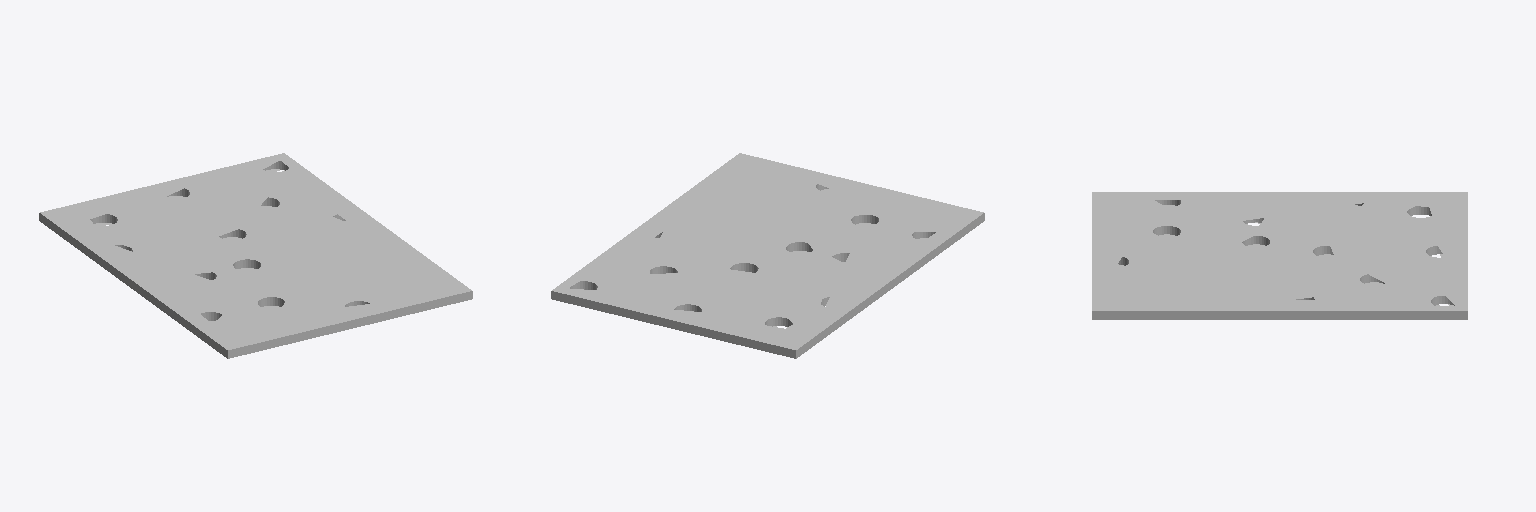
Rendered from stage4.obj.
3 renders of one model, left to right at view 1: azimuth 30°, elevation 25°; view 2: azimuth 150°, elevation 25°; view 3: azimuth 270°, elevation 25°, orthographic.
Parts seen in each view (by area): view 1: Cube_Cube.002; view 2: Cube_Cube.002; view 3: Cube_Cube.002.
Part boxes in pixels (left/top/right/bottom): Cube_Cube.002: left=39, top=153, right=472, bottom=358; Cube_Cube.002: left=551, top=153, right=984, bottom=358; Cube_Cube.002: left=1092, top=192, right=1467, bottom=319.
Bounding box in the file's own units: 60 × 2 × 80.